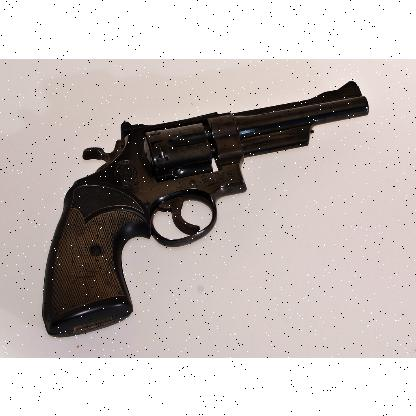gun: (40, 80, 367, 336)
